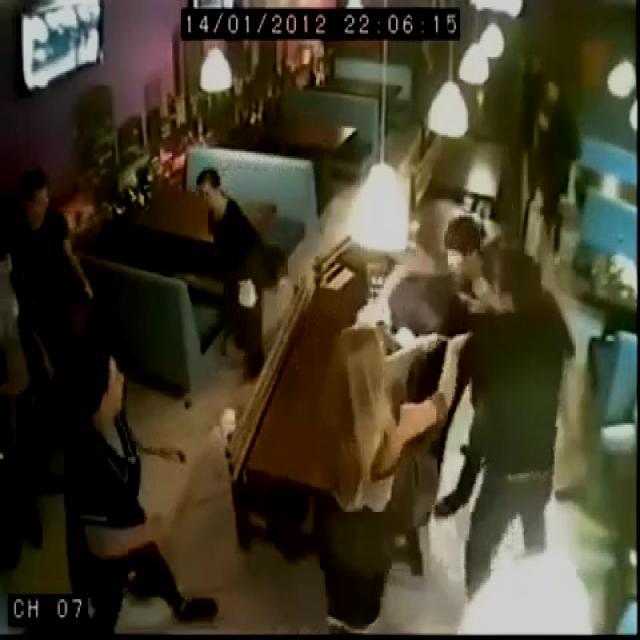fight: (319, 251, 568, 632)
